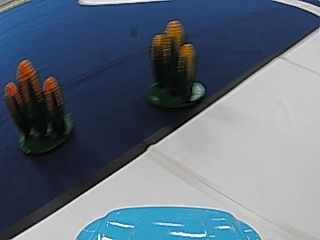corn: (3, 58, 70, 155), (148, 16, 200, 112)
